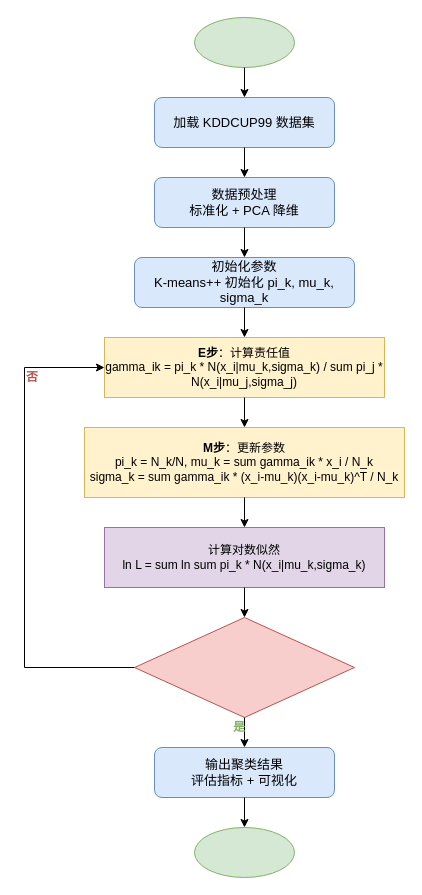
The diagram is 422 pixels wide and 895 high, and some of its shapes have lost their labels. The shapes that lost their labels are listed below. From the top down, each one's box as (x1, y1, x2, y2) in pixels, then its label:
(194, 16, 294, 68): 开始
(134, 616, 354, 718): 是否收敛？ |lnL_new - lnL_old| < tol
(194, 826, 294, 878): 结束
